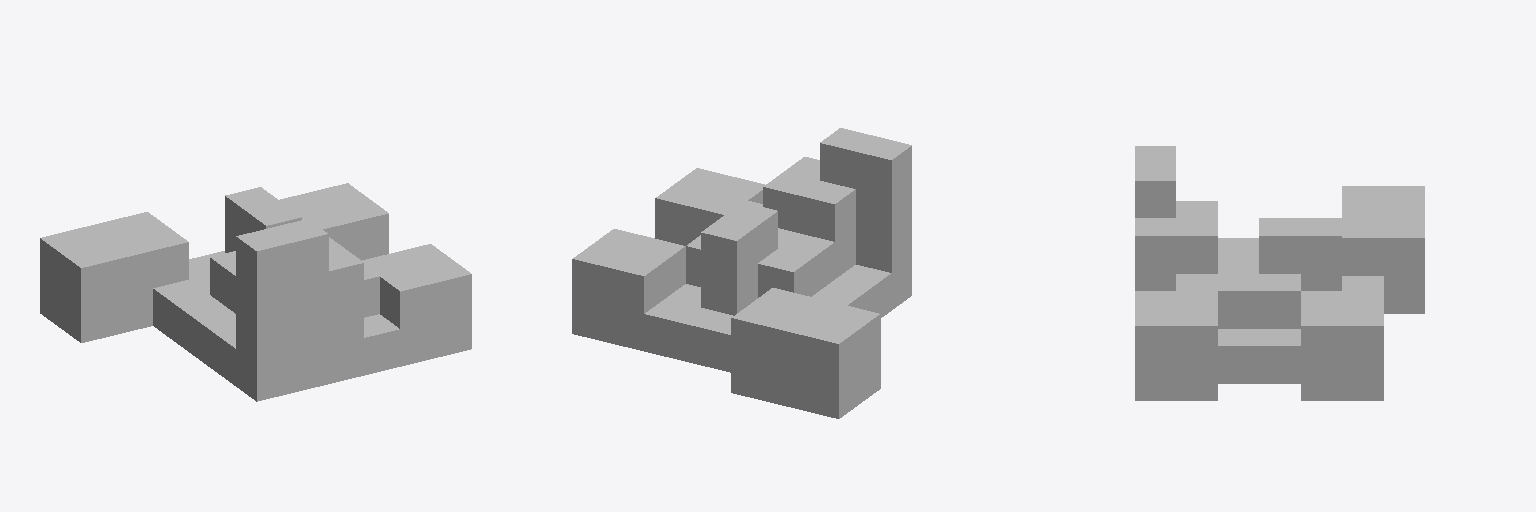
Rendered from crocodile spit.obj.
The picture shows the model from 3 angles: view 1: azimuth 30°, elevation 25°; view 2: azimuth 150°, elevation 25°; view 3: azimuth 270°, elevation 25°; orthographic projection.
Parts seen in each view (by area): view 1: object 1; view 2: object 1; view 3: object 1.
Part boxes in pixels (bbox=[...]): object 1: bbox=[40, 183, 471, 401]; object 1: bbox=[572, 128, 911, 418]; object 1: bbox=[1135, 146, 1424, 400].
Size of the model in its own units: 0.8 by 0.4 by 0.7.